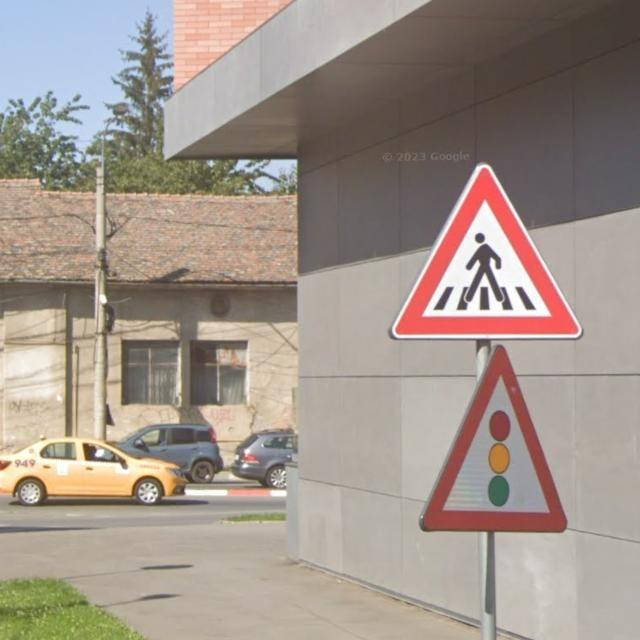warn_crosswalk: (386, 162, 581, 340)
